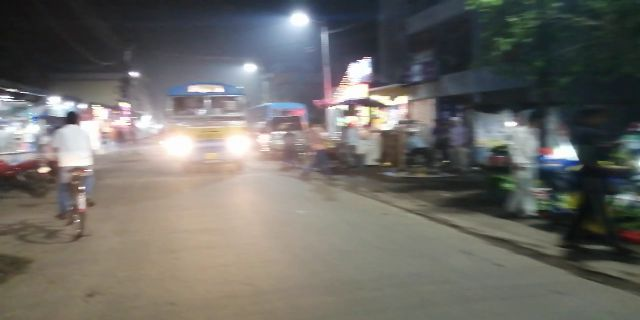Bus: (158, 78, 258, 175)
Cycle: (38, 109, 106, 242)
